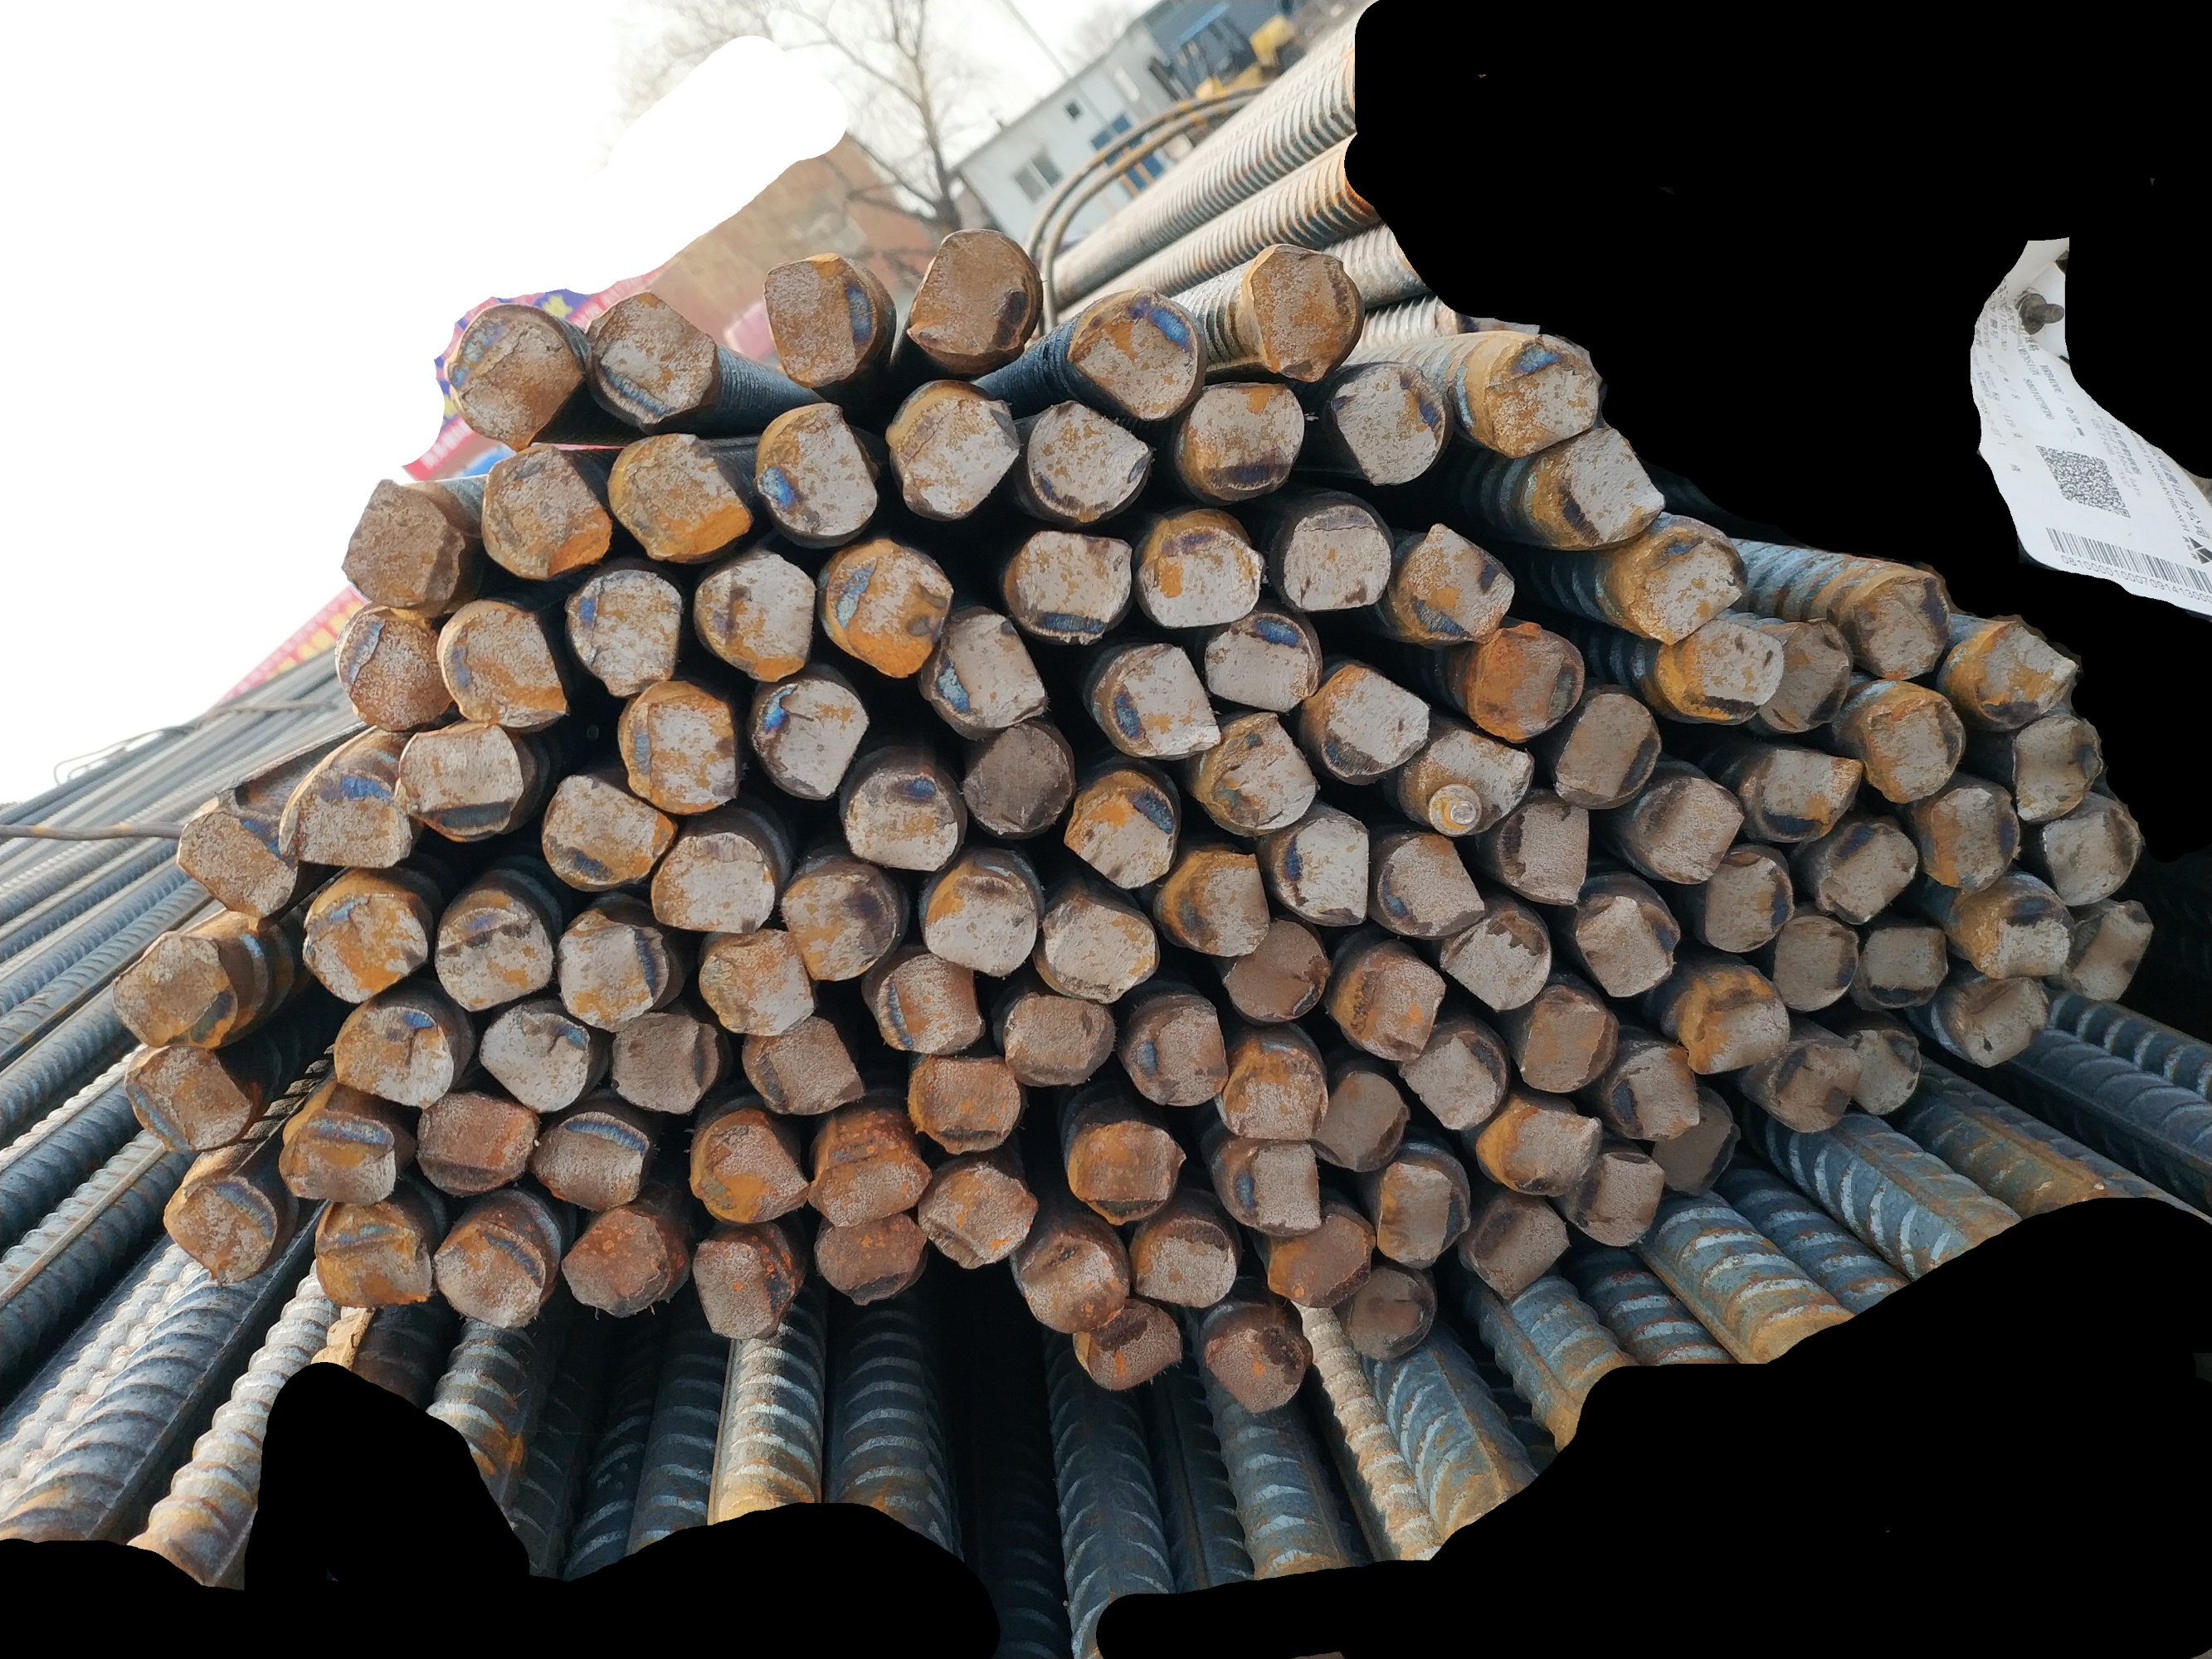rebar: (601, 425, 760, 570), (441, 298, 586, 455), (474, 436, 621, 589), (1055, 279, 1204, 427), (899, 225, 1053, 369), (818, 532, 957, 685), (887, 376, 1025, 532), (580, 284, 722, 432), (1018, 390, 1164, 528), (750, 396, 885, 544), (537, 762, 685, 897), (335, 474, 472, 617), (612, 673, 746, 819), (1238, 239, 1367, 390), (436, 596, 575, 732), (1536, 422, 1677, 556), (1478, 328, 1614, 464), (105, 925, 248, 1054), (992, 526, 1140, 650), (560, 561, 689, 702), (692, 547, 821, 688), (117, 1035, 261, 1161), (919, 605, 1055, 737), (1194, 706, 1330, 838), (746, 671, 877, 809), (291, 882, 434, 1007), (390, 718, 530, 845), (544, 903, 675, 1037), (1619, 528, 1755, 657), (1394, 512, 1520, 652), (758, 249, 882, 390), (1325, 354, 1450, 491), (1128, 518, 1272, 636), (682, 1100, 814, 1229), (1086, 640, 1227, 760), (427, 1208, 556, 1338), (329, 605, 455, 739), (1028, 885, 1164, 1009), (275, 763, 420, 878), (952, 716, 1081, 845), (1180, 378, 1309, 507), (640, 823, 781, 939), (772, 859, 901, 986), (1464, 615, 1590, 746), (689, 922, 824, 1042), (1056, 1115, 1194, 1234), (910, 1155, 1042, 1277), (899, 1044, 1032, 1164), (169, 809, 307, 924), (322, 997, 460, 1112), (1313, 662, 1438, 788), (432, 896, 560, 1019), (919, 859, 1046, 983), (467, 999, 598, 1119), (1623, 767, 1748, 890), (309, 1192, 436, 1314), (159, 1168, 282, 1291), (1851, 683, 1973, 809), (1058, 782, 1191, 897), (1407, 725, 1541, 838), (1330, 950, 1454, 1072), (1114, 986, 1232, 1114), (1300, 1056, 1419, 1183), (1548, 685, 1665, 814), (1274, 498, 1400, 617), (410, 1084, 539, 1199), (1469, 1093, 1609, 1199), (1196, 608, 1328, 720), (1652, 619, 1788, 727), (556, 1201, 678, 1321), (992, 981, 1119, 1096), (1668, 967, 1797, 1080), (866, 948, 997, 1060), (1963, 613, 2085, 732), (1215, 913, 1339, 1030), (521, 1107, 652, 1216), (603, 1002, 725, 1119), (838, 762, 962, 877), (1435, 904, 1558, 1018), (1511, 978, 1625, 1101), (1752, 737, 1870, 854), (1161, 845, 1276, 965), (1368, 828, 1489, 943), (1011, 1227, 1135, 1338), (1750, 613, 1862, 737), (1954, 877, 2083, 983), (739, 1014, 870, 1119), (1260, 1206, 1384, 1316), (1271, 809, 1379, 932), (1365, 1155, 1476, 1274), (277, 1107, 403, 1211), (1203, 1304, 1316, 1419), (1572, 889, 1687, 1002), (1813, 816, 1928, 929), (2031, 800, 2146, 913), (1492, 795, 1604, 911), (1126, 1209, 1245, 1319), (1848, 565, 1958, 683), (1217, 1127, 1330, 1241), (1215, 1039, 1335, 1145), (682, 1232, 795, 1344), (2003, 708, 2109, 826), (804, 1140, 940, 1232), (1396, 1028, 1511, 1136), (1917, 782, 2024, 897), (812, 1206, 931, 1309), (1945, 967, 2057, 1075), (1564, 1147, 1673, 1253), (1072, 1293, 1187, 1394), (1602, 1037, 1705, 1148), (1645, 1093, 1748, 1202), (2057, 896, 2160, 1004), (1698, 845, 1797, 957), (1464, 1201, 1572, 1302), (1757, 1037, 1867, 1136), (1768, 908, 1867, 1018), (1340, 1265, 1440, 1366), (1856, 917, 1956, 1014), (1834, 1019, 1926, 1117)
